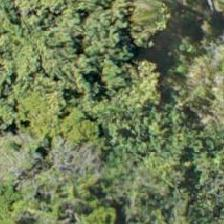coconut_tree: (126, 95, 216, 185)
